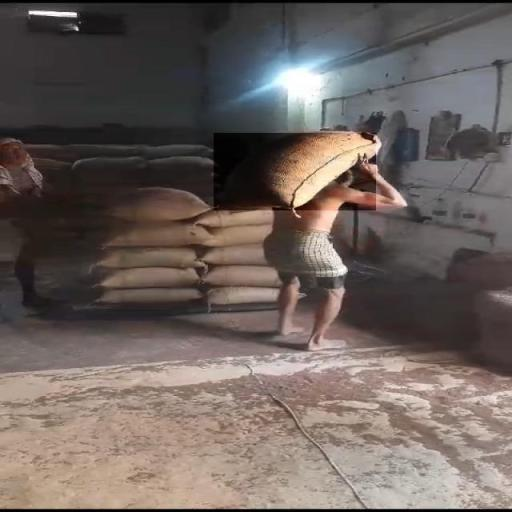c-belt-sack-count: (225, 131, 377, 212)
